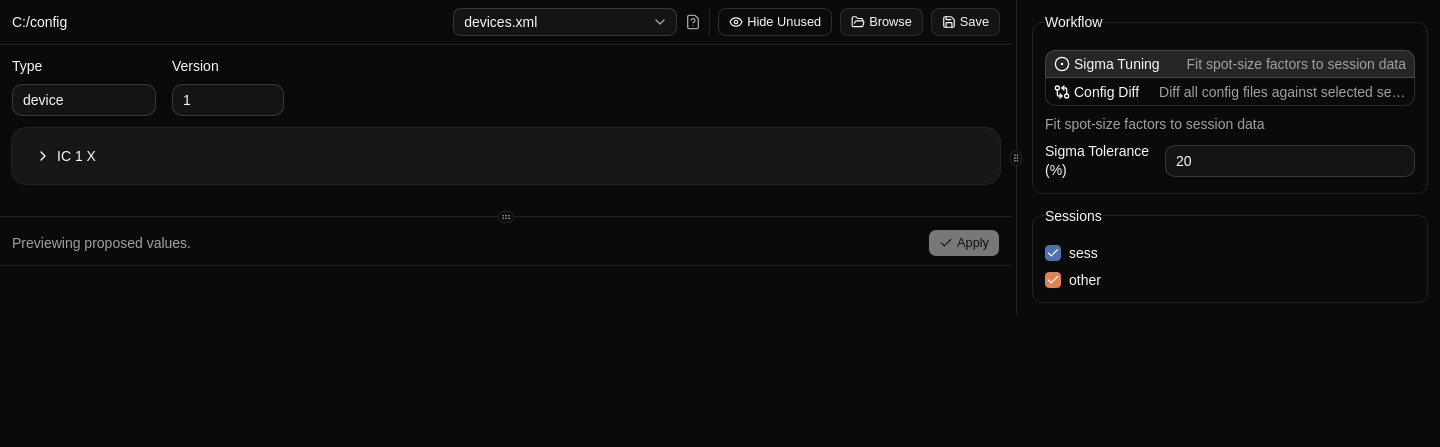
Test case: diffs the loaded config against each selected session
Click the button "Config Diff Diff all config files against selected sessions" at [1230, 92], box [1045, 78, 1415, 106]
Wait 200 ms
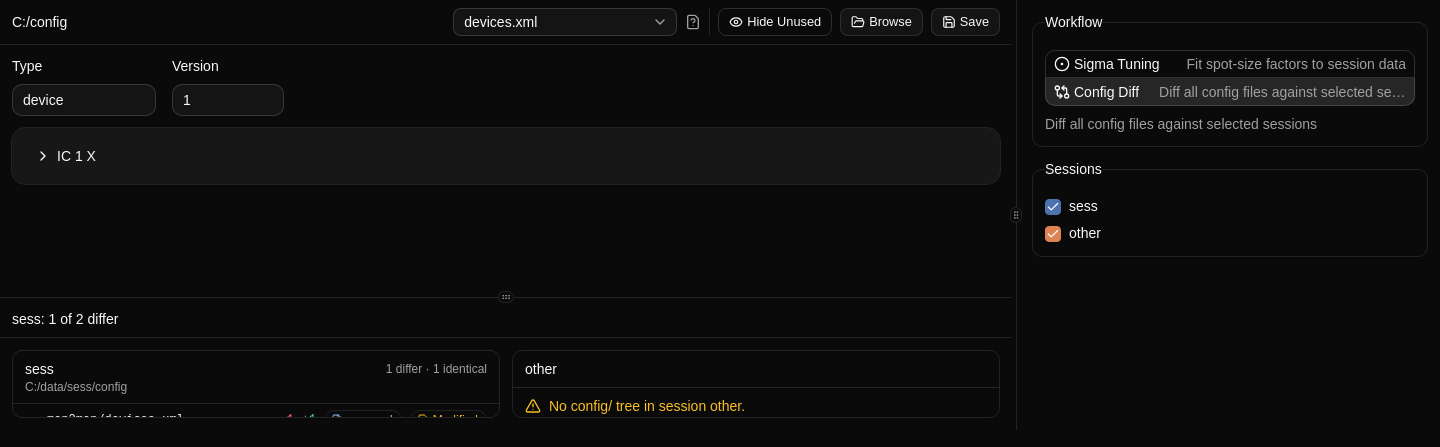
Expected: the text "sess: 1 of 2 differ" is shown, [12, 311, 118, 327]
Expected: the text "No config/ tree in session other." is shown, [525, 398, 745, 414]
